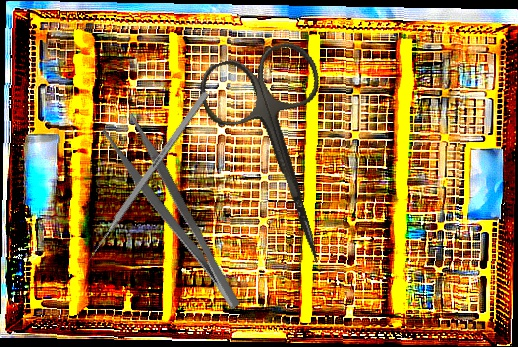Dressing Forceps: (100, 110, 246, 322)
Iris Scissors: (193, 36, 372, 281)
Pusher: (81, 90, 210, 268)
